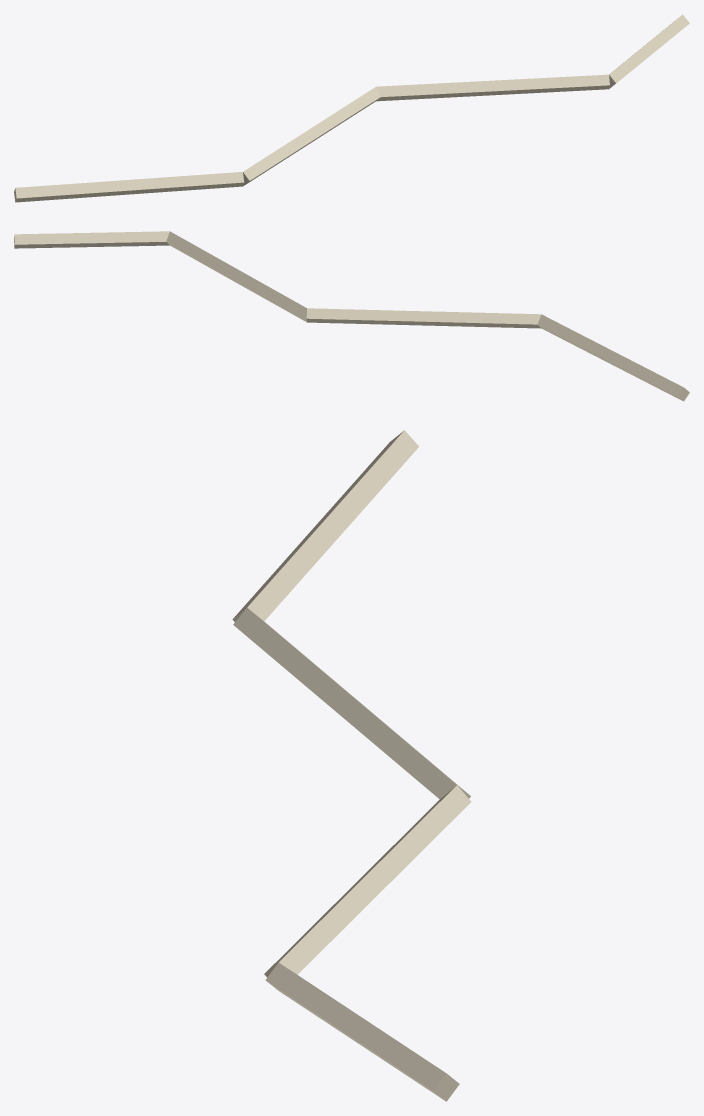
Rendered from string_6.glb.
3 views of the same model, one above another, from view 1: azimuth 30°, elevation 25°; view 2: azimuth 150°, elevation 25°; view 3: azimuth 270°, elevation 25° (orthographic). The views are drawn at different scales.
Visible parts, largest first — view 1: block_seg2, block_seg0, block_seg1, block_seg3; view 2: block_seg1, block_seg3, block_seg0, block_seg2; view 3: block_seg1, block_seg2, block_seg0, block_seg3.
Boxes of the visible parts, <box> form: block_seg2: <box>376,74,609,101</box>; block_seg0: <box>14,172,244,202</box>; block_seg1: <box>243,87,380,186</box>; block_seg3: <box>609,14,689,88</box>; block_seg1: <box>306,308,541,328</box>; block_seg3: <box>14,231,169,248</box>; block_seg0: <box>537,314,689,401</box>; block_seg2: <box>166,231,306,322</box>; block_seg1: <box>233,607,470,799</box>; block_seg2: <box>264,785,471,977</box>; block_seg0: <box>232,430,418,621</box>; block_seg3: <box>265,962,459,1101</box>.
Bounding box in the file's own units: 0.1463 × 0.003 × 0.0228.
1 material, 1 textured.
